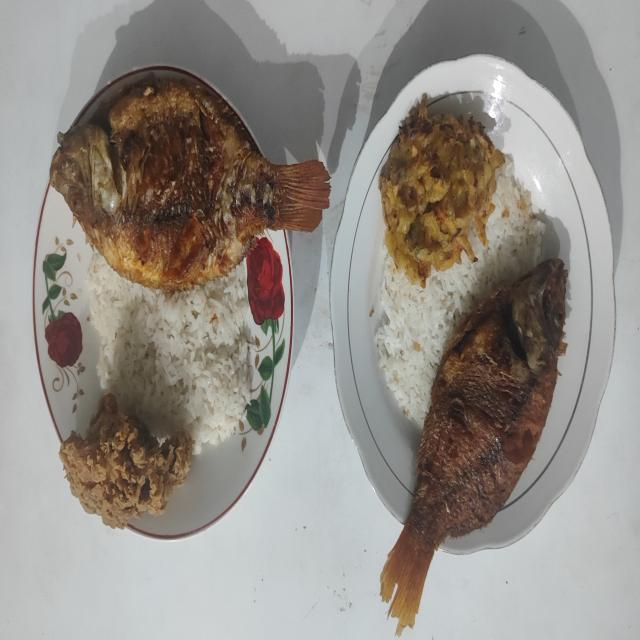ikan_mujair: (380, 260, 568, 632), (49, 80, 330, 289)
nasi_putih: (371, 157, 545, 431), (87, 250, 250, 450)
